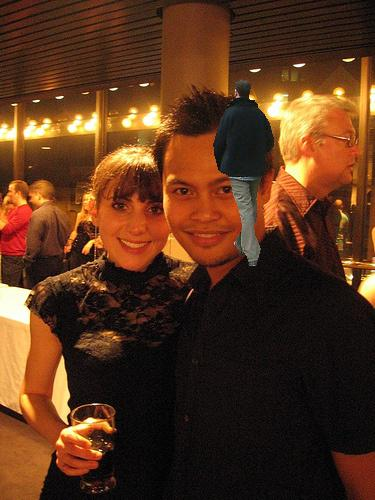tampered: (214, 80, 274, 266)
